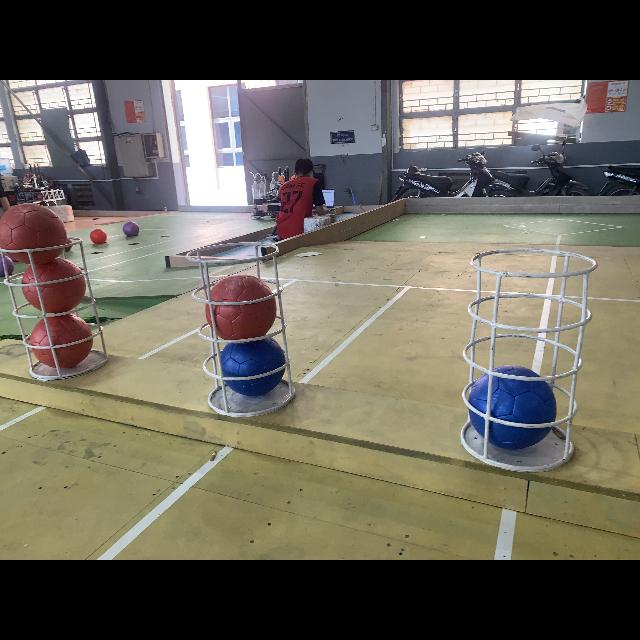B: (468, 364, 556, 450), (219, 334, 287, 396)
R: (205, 274, 278, 342), (0, 204, 68, 262), (22, 258, 86, 314), (31, 316, 93, 368)
